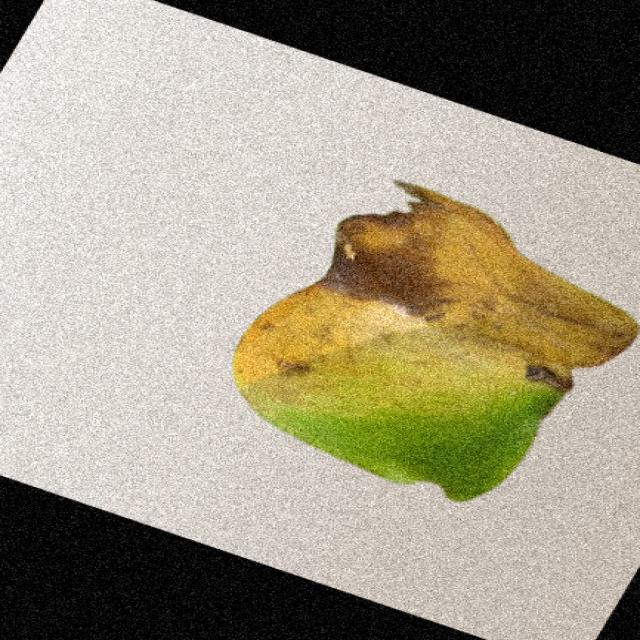daun berpenyakit kuning: (233, 181, 636, 501)
